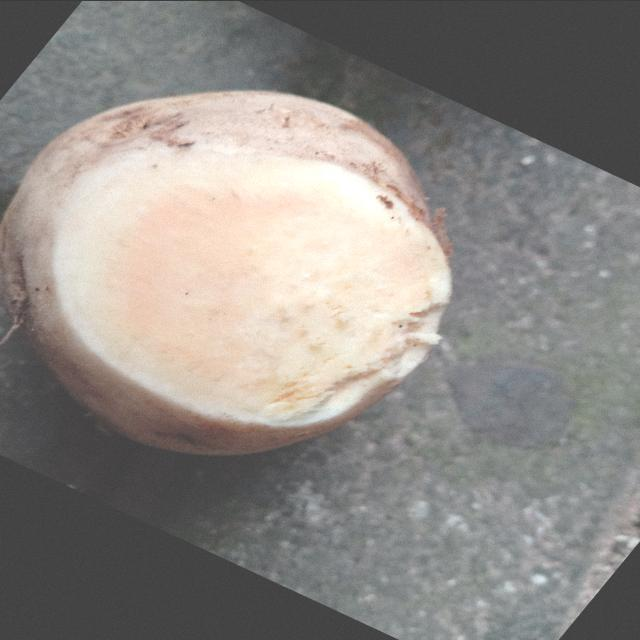Healthy Sweet Potato: (53, 149, 450, 425)
